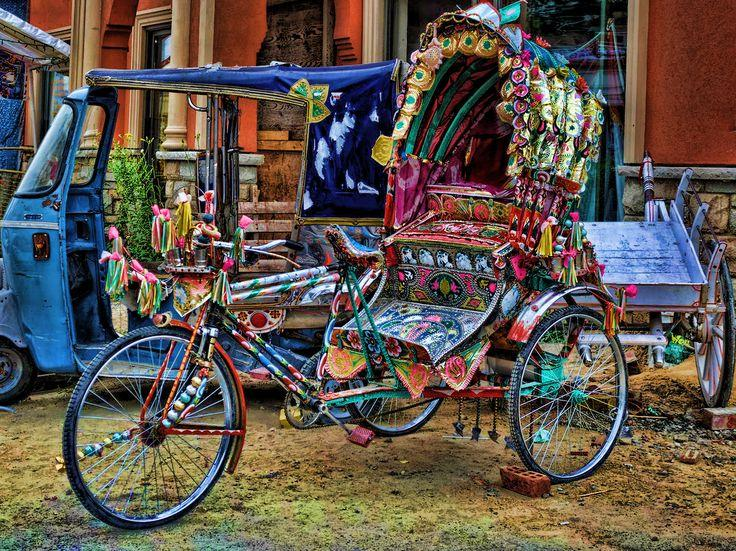Rickshaw: (63, 3, 634, 527)
